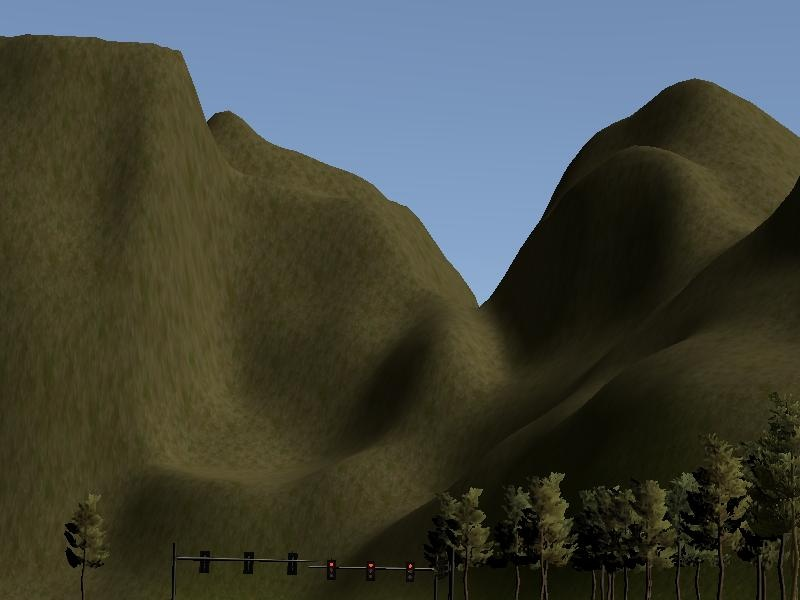red: (403, 556, 419, 587), (363, 556, 378, 585), (322, 558, 339, 579)
